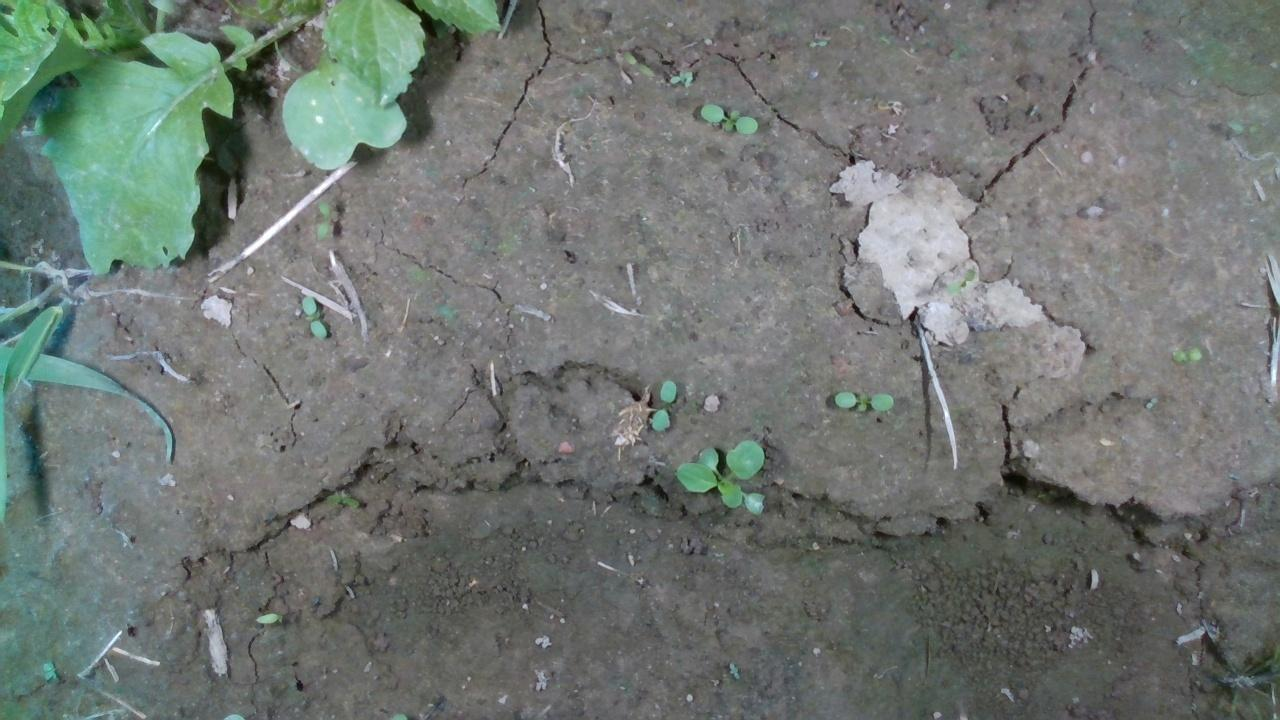weed: (698, 100, 758, 137), (832, 389, 893, 413), (650, 378, 675, 431), (300, 294, 327, 340), (313, 196, 337, 243), (620, 49, 655, 79), (1170, 344, 1201, 361), (41, 658, 57, 682), (1142, 395, 1158, 409)
